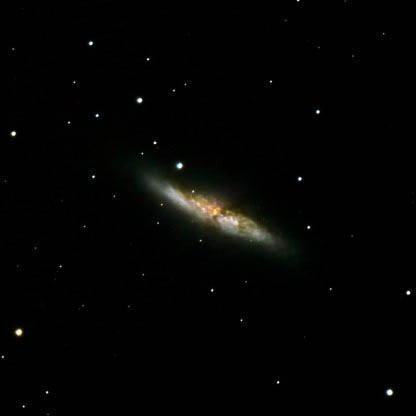Messier 82: (131, 145, 301, 274)
